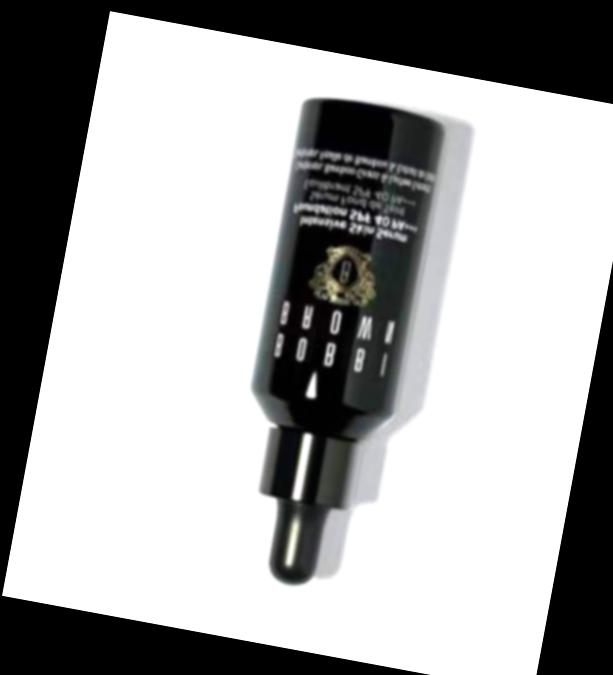cosmetic: (211, 100, 443, 597)
